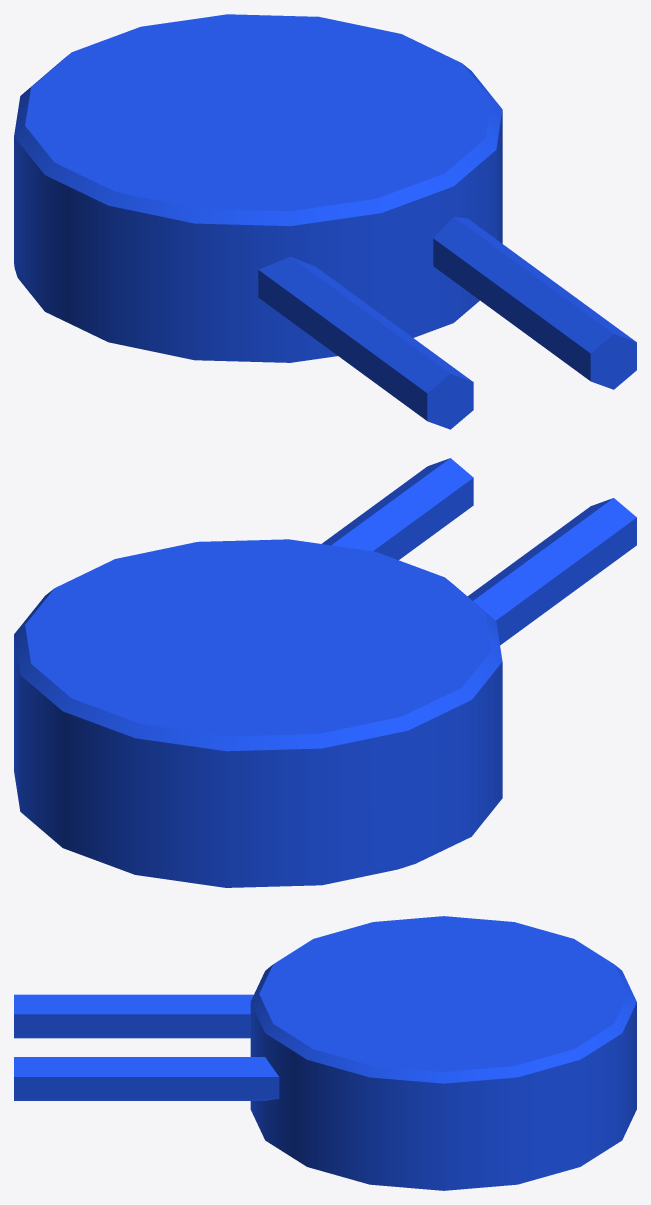
The model's file is DoubleCannon.fbx.
3 views of the same model, one above another, from view 1: azimuth 30°, elevation 25°; view 2: azimuth 150°, elevation 25°; view 3: azimuth 270°, elevation 25° (orthographic). The views are drawn at different scales.
Parts seen in each view (by area): view 1: Housing, Barrels; view 2: Housing, Barrels; view 3: Housing, Barrels.
Boxes of the visible parts, x1,y1,x2,y2 form: Housing: (14,14,502,362); Barrels: (258,217,636,429); Housing: (14,539,502,887); Barrels: (322,458,636,645); Housing: (250,916,636,1190); Barrels: (14,994,279,1100).
Bounding box in the file's own units: 64 × 21.04 × 103.
1 material, 1 textured.
